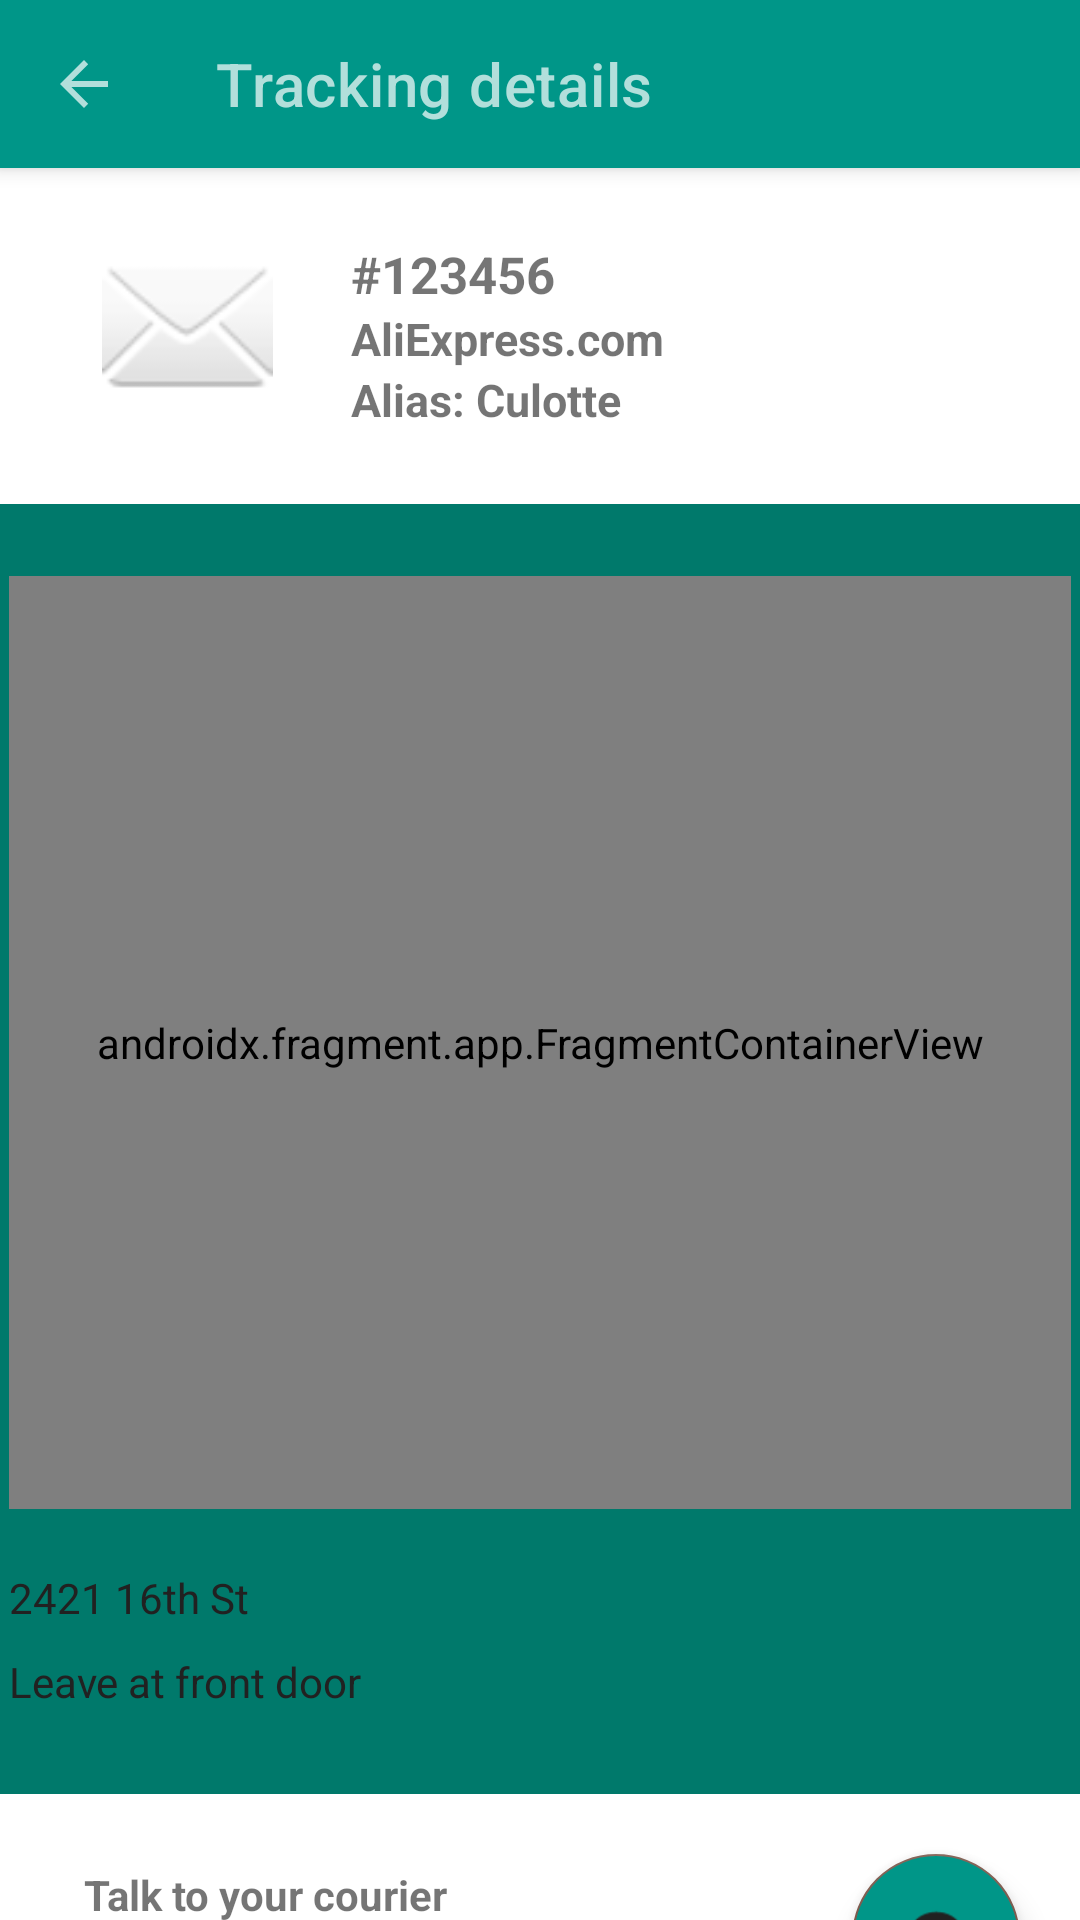

Named icons in this screenshot (1080×1920) and their centers, (x,y):
email: (187,328)
